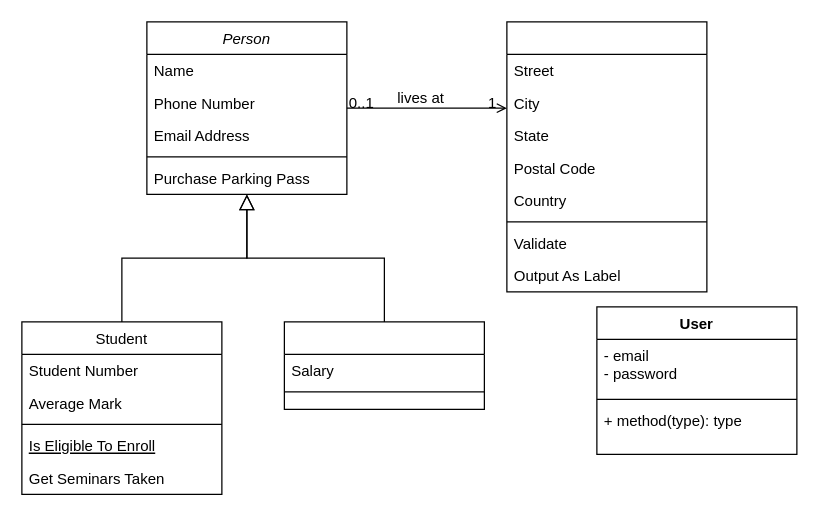
This 819x520 diagram has some shape labels left out. Here are the shapes that lost their labels. From the top down, the box of each, then its label:
(506, 21, 707, 292): Address
(283, 321, 484, 409): Professor
